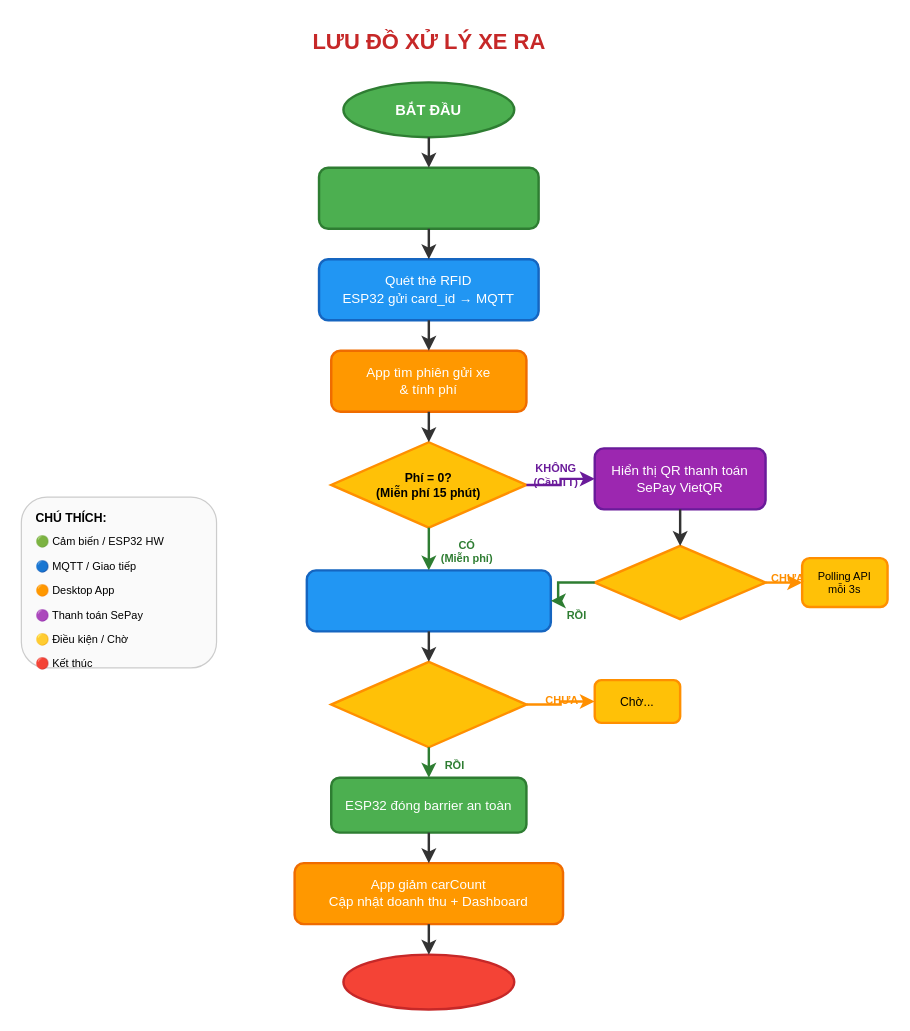
Some shapes in this 910 by 1031 pixel diagram are drawn without their labels. Here are the shapes that lost their labels. From the top down, the box of each, then its label:
(317, 166, 539, 229): Cảm biến siêu âm phát hiện xe đến cổng ra
(305, 569, 551, 632): App gửi lệnh mở cổng → MQTT ESP32 mở barrier
(593, 544, 766, 620): Thanh toán thành công?
(329, 660, 527, 748): Cảm biến hồng ngoại: Xe đã qua?
(342, 953, 515, 1010): KẾT THÚC
